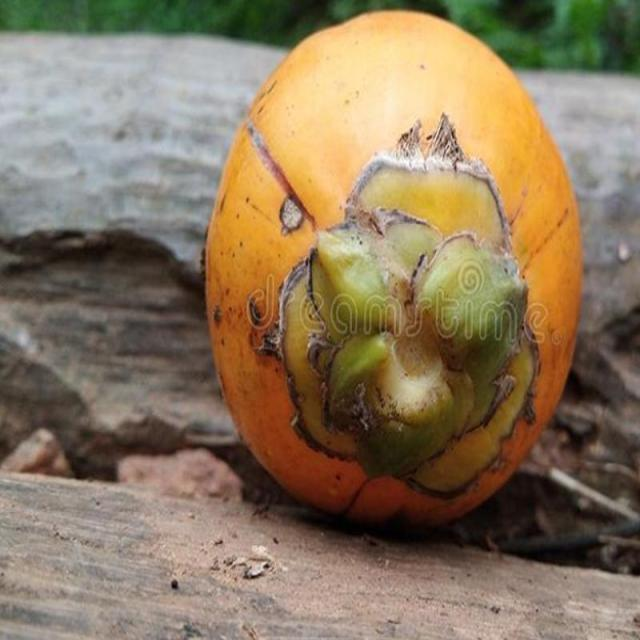good: (205, 12, 584, 535)
